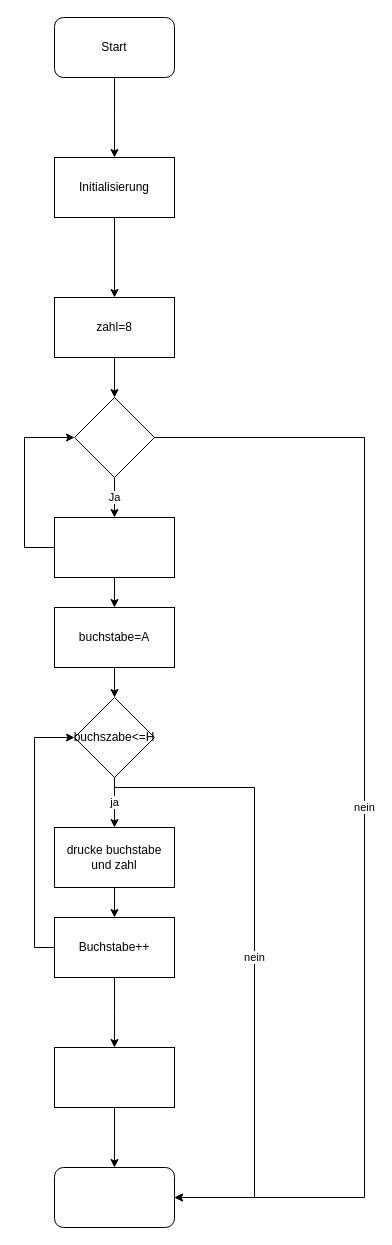
Image size: 392x1245. Some labels were removed from this diagram. The shapes that lost their labels are listed below. From the top down, each one's box as (x1, y1, x2, y2) in pixels, then its label:
(74, 396, 154, 478): zahl>0?
(54, 516, 174, 578): zahl--
(54, 1046, 174, 1108): Absatz
(54, 1166, 174, 1228): Ende
